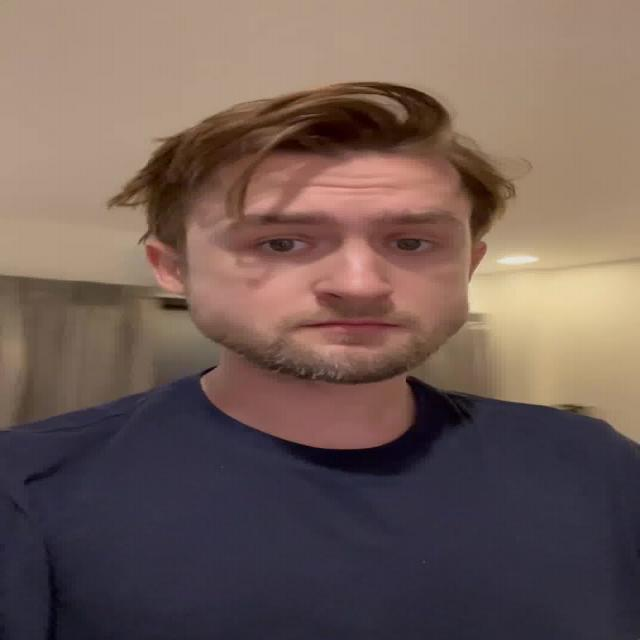earlobe: (143, 238, 186, 295), (469, 239, 488, 284)
